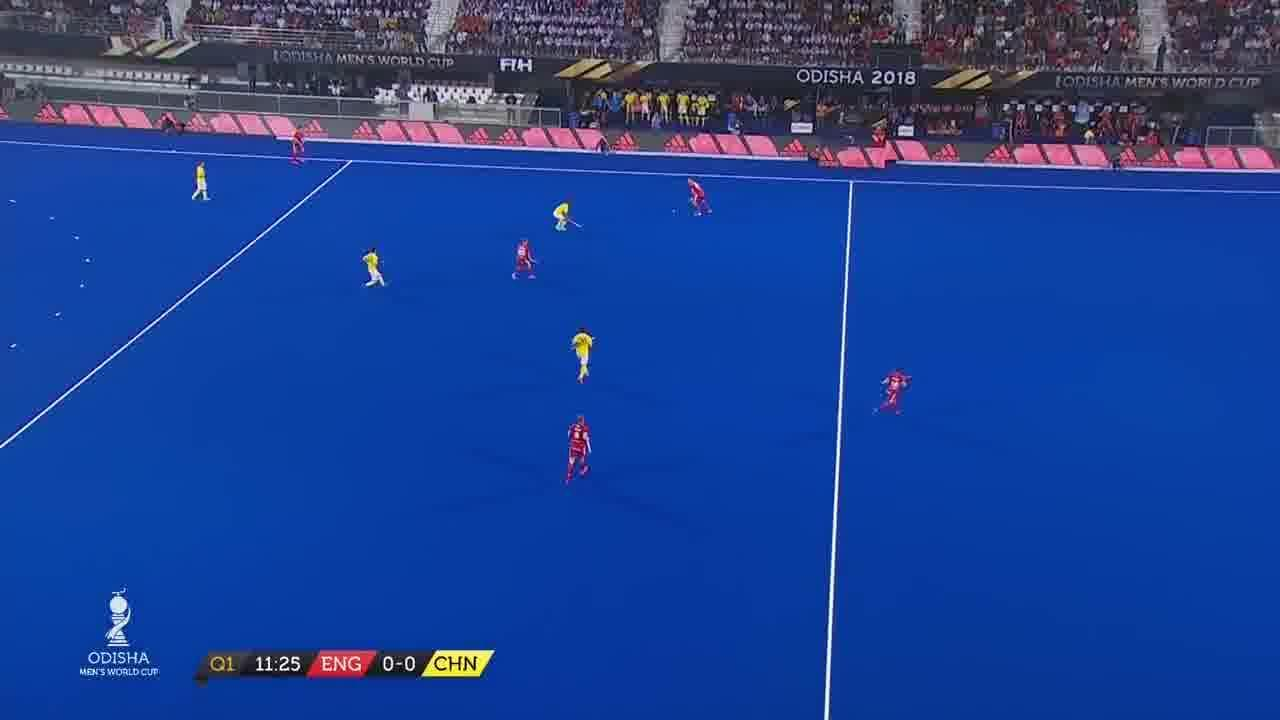ball: (670, 206, 680, 218)
